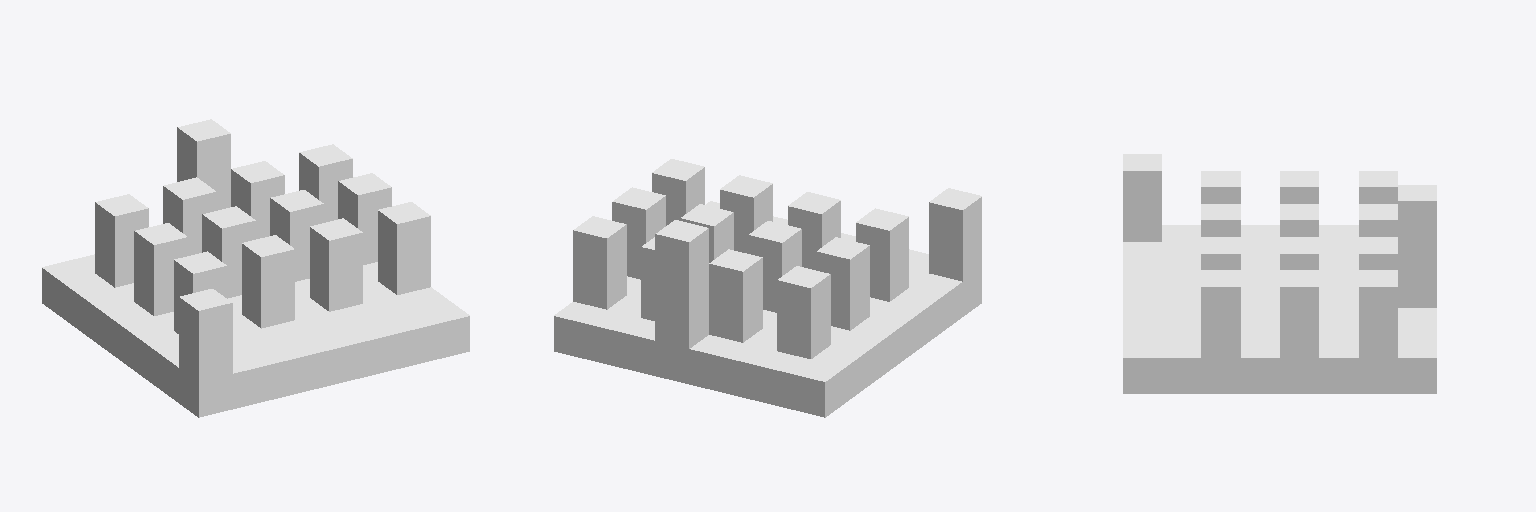
The model's file is Fram_01.obj.
3 renders of one model, left to right at view 1: azimuth 30°, elevation 25°; view 2: azimuth 150°, elevation 25°; view 3: azimuth 270°, elevation 25°, orthographic.
Parts seen in each view (by area): view 1: object 1; view 2: object 1; view 3: object 1.
Part boxes in pixels (left/top/right/bottom): object 1: left=42, top=119, right=469, bottom=417; object 1: left=554, top=159, right=981, bottom=417; object 1: left=1123, top=154, right=1436, bottom=393.
Bounding box in the file's own units: 0.8 × 0.4 × 0.8.